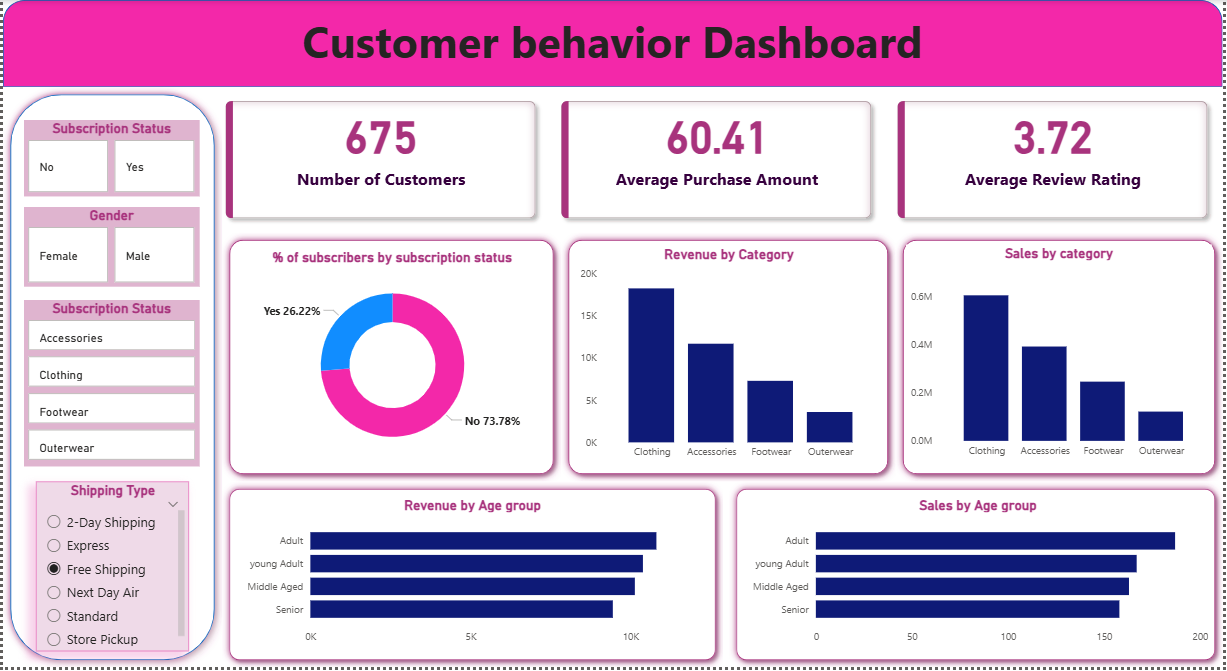

Layout of this report page (visuals, bound fields, positions):
{"tool":"powerbi","page":{"name":"Page 1","canvas":[1500,820],"ordinal":0},"visuals":[{"type":"cardVisual","fields":{"Data":["public customer.Number of Customers","public customer.Average Purchase Amount","public customer.Average Review Rating"]},"box":[256.3,107,1242.9,178.9],"z":0},{"type":"shape","box":[0,0,1499.3,107],"z":1000},{"type":"textbox","box":[0,9.2,1499.3,88.5],"z":2000},{"type":"shape","box":[269.2,285.8,416.8,306.1],"z":3000},{"type":"donutChart","title":"% of subscribers by subscription status","fields":{"Category":["public customer.subscription_status"],"Y":["CountNonNull(public customer.customer_id)"]},"box":[289.5,306.1,378,265.6],"z":4000},{"type":"shape","box":[686,285.8,411.2,306.1],"z":5000},{"type":"shape","box":[1097.3,285.8,402,306.1],"z":6000},{"type":"clusteredColumnChart","title":"Revenue by Category","fields":{"Y":["Sum(public customer.purchase_amount)"],"Category":["public customer.category"]},"box":[704.5,302.4,376.2,271.1],"z":7000},{"type":"clusteredColumnChart","title":"Sales by category","fields":{"Y":["Sum(public customer.customer_id)"],"Category":["public customer.category"]},"box":[1110.2,300.6,376.2,271.1],"z":8000},{"type":"shape","box":[0,107,269.2,713.7],"z":9000},{"type":"advancedSlicerVisual","title":"Subscription Status","fields":{"Values":["public customer.subscription_status"]},"box":[25.8,147.5,215.8,94.1],"z":10000},{"type":"advancedSlicerVisual","title":"Gender","fields":{"Values":["public customer.gender"]},"box":[25.8,254.5,215.8,97.7],"z":11000},{"type":"advancedSlicerVisual","title":"Subscription Status","fields":{"Values":["public customer.category"]},"box":[25.8,368.8,215.8,204.7],"z":12000},{"type":"slicer","title":"Shipping Type","fields":{"Values":["public customer.shipping_type"]},"box":[40.6,592,188.1,208.4],"z":13000},{"type":"shape","box":[269.2,592,615.9,228.7],"z":14000},{"type":"shape","box":[892.6,592,606.7,228.7],"z":15000},{"type":"clusteredBarChart","title":"Revenue by Age group","fields":{"Y":["Sum(public customer.purchase_amount)"],"Category":["public customer.age_group"]},"box":[289.5,610.4,575.4,189.9],"z":15001},{"type":"clusteredBarChart","title":"Sales by Age group","fields":{"Y":["CountNonNull(public customer.customer_id)"],"Category":["public customer.age_group"]},"box":[911,610.4,575.4,189.9],"z":15002}]}

Visuals, with their boxes in screenshot pixels (x1, y1, x2, y2), scaled from the page's 1500x820 canvas onto the 1227x671 screenshot:
cardVisual - public customer.Number of Customers x public customer.Average Purchase Amount: 210,88,1226,234
shape: 0,0,1226,88
textbox: 0,8,1226,80
shape: 220,234,561,484
"% of subscribers by subscription status" donutChart: 237,250,546,468
shape: 561,234,898,484
shape: 898,234,1226,484
"Revenue by Category" clusteredColumnChart: 576,247,884,469
"Sales by category" clusteredColumnChart: 908,246,1216,468
shape: 0,88,220,670
"Subscription Status" advancedSlicerVisual: 21,121,198,198
"Gender" advancedSlicerVisual: 21,208,198,288
"Subscription Status" advancedSlicerVisual: 21,302,198,469
"Shipping Type" slicer: 33,484,187,655
shape: 220,484,724,670
shape: 730,484,1226,670
"Revenue by Age group" clusteredBarChart: 237,499,707,655
"Sales by Age group" clusteredBarChart: 745,499,1216,655
